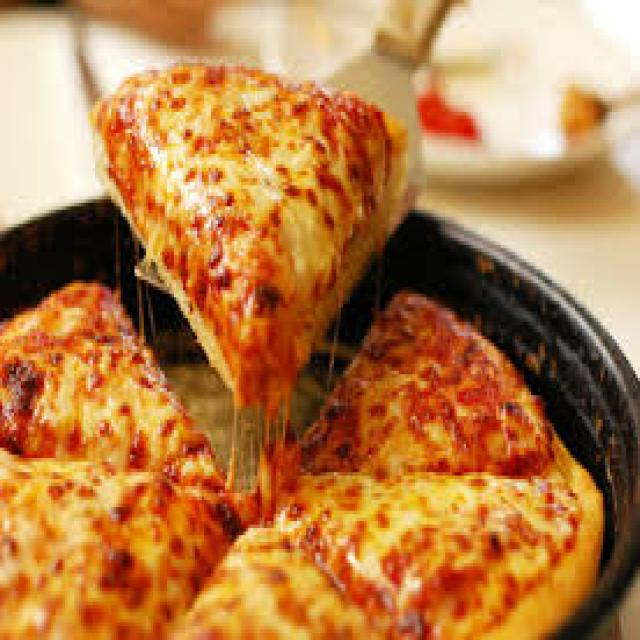Organik: (102, 54, 424, 398), (213, 440, 620, 640), (0, 281, 269, 519), (288, 288, 572, 493), (0, 443, 240, 640)
